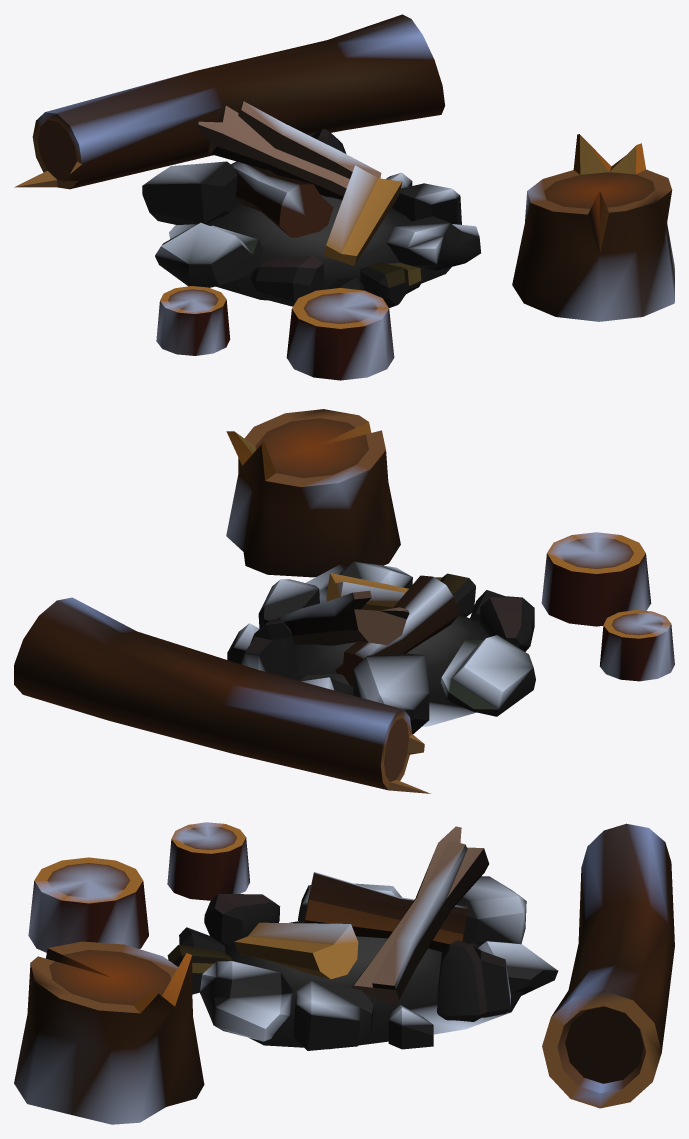
File: Bonfire_01.fbx
The picture shows the model from 3 angles, top to bottom: view 1: azimuth 30°, elevation 25°; view 2: azimuth 150°, elevation 25°; view 3: azimuth 270°, elevation 25°; orthographic projection. The views are drawn at different scales.
Visible parts, largest first — view 1: Bonfire_01; view 2: Bonfire_01; view 3: Bonfire_01.
Boxes of the visible parts, left/top/right/bottom form: Bonfire_01: left=14, top=14, right=674, bottom=380; Bonfire_01: left=14, top=409, right=674, bottom=793; Bonfire_01: left=14, top=822, right=674, bottom=1124.
Bounding box in the file's own units: 2833 × 734 × 3076.
